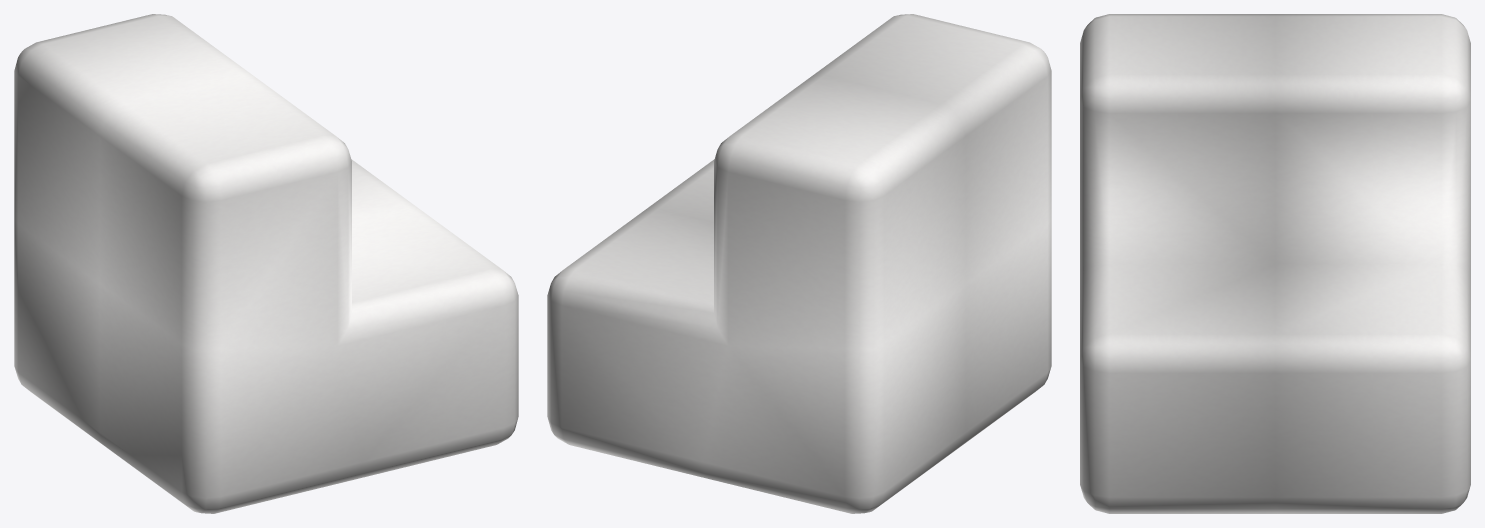
Rendered from __clay_block_08_30.obj.
The picture shows the model from 3 angles, left to right: view 1: azimuth 30°, elevation 25°; view 2: azimuth 150°, elevation 25°; view 3: azimuth 270°, elevation 25°; orthographic projection.
Visible parts, largest first — view 1: clay_block_30; view 2: clay_block_30; view 3: clay_block_30.
Part boxes in pixels (left/top/right/bottom): clay_block_30: left=14, top=14, right=518, bottom=513; clay_block_30: left=547, top=14, right=1051, bottom=513; clay_block_30: left=1080, top=14, right=1470, bottom=513.
Size of the model in its own units: 2 by 2 by 2.
1 material, 1 textured.
